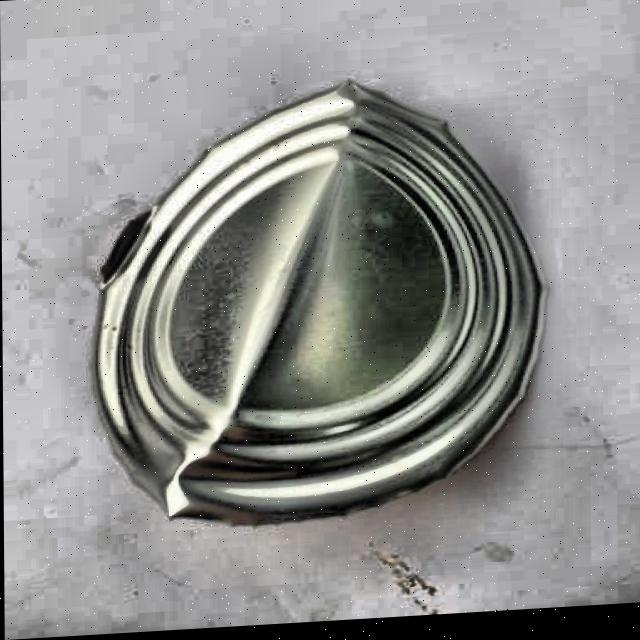metal: (91, 67, 551, 540)
